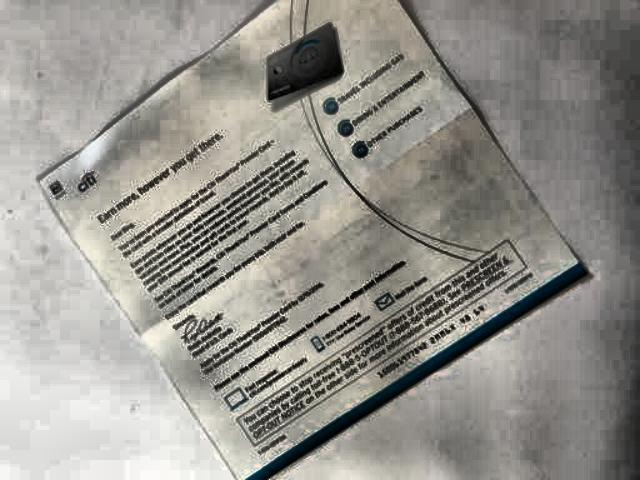Paper: (5, 8, 592, 475)
